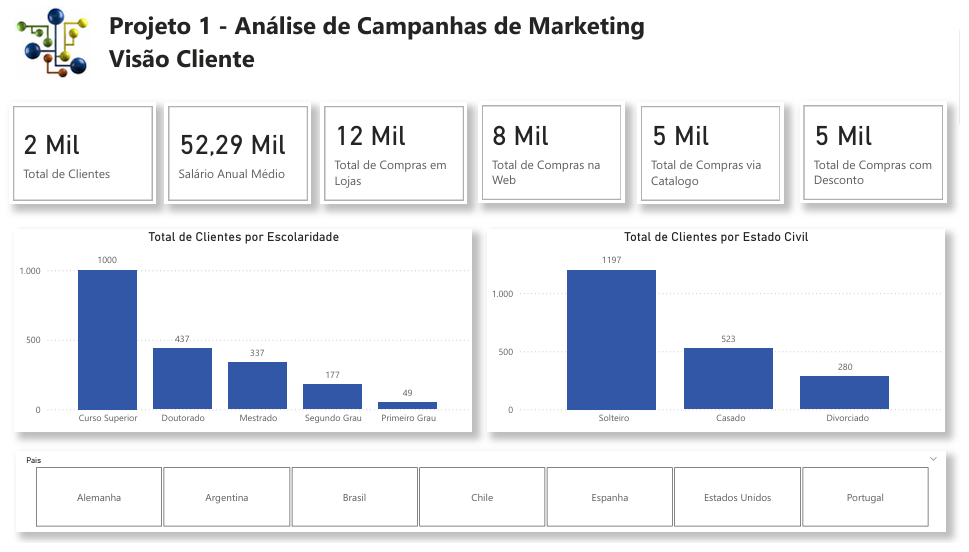

The page's visual inventory and layout, read from the dashboard file:
{"tool":"powerbi","page":{"name":"visao_cliente","canvas":[1280,720],"ordinal":0},"visuals":[{"type":"cardVisual","fields":{"Data":["CountNonNull(dados_marketing.ID)"]},"box":[13.3,133.3,195,135],"z":0},{"type":"cardVisual","fields":{"Data":["Avg(dados_marketing.Salario Anual)"]},"box":[220,133.3,195,135],"z":1000},{"type":"cardVisual","fields":{"Data":["Sum(dados_marketing.Numero de Compras na Loja)"]},"box":[428.3,133.3,195,135],"z":2000},{"type":"cardVisual","fields":{"Data":["Sum(dados_marketing.Numero de Compras na Web)"]},"box":[638.3,131.7,195,135],"z":3000},{"type":"cardVisual","fields":{"Data":["Sum(dados_marketing.Numero de Compras com Desconto)"]},"box":[1066.7,131.7,195,135],"z":4000},{"type":"cardVisual","fields":{"Data":["Sum(dados_marketing.Numero de Compras via Catalogo)"]},"box":[850,133.3,195,135],"z":5000},{"type":"image","box":[0,0,140,108.3],"z":6000},{"type":"textbox","box":[140,1.7,1003.3,106.7],"z":7000},{"type":"columnChart","title":"Total de Clientes por Escolaridade","fields":{"Category":["dados_marketing.Escolaridade"],"Y":["CountNonNull(dados_marketing.ID)"]},"box":[19.6,302.4,610,270],"z":8000},{"type":"columnChart","title":"Total de Clientes por Estado Civil","fields":{"Y":["CountNonNull(dados_marketing.ID)"],"Category":["dados_marketing.Estado Civil"]},"box":[649.6,302.4,610,270],"z":9000},{"type":"slicer","fields":{"Values":["dados_marketing.Pais"]},"box":[21.7,598.3,1240,106.7],"z":10000}]}

Visuals, with their boxes in screenshot pixels (x1, y1, x2, y2), scaled from the page's 1280x720 canvas onto the 969x552 screenshot:
cardVisual - CountNonNull(dados_marketing.ID): <region>10, 102, 158, 206</region>
cardVisual - Avg(dados_marketing.Salario Anual): <region>167, 102, 314, 206</region>
cardVisual - Sum(dados_marketing.Numero de Compras na Loja): <region>324, 102, 472, 206</region>
cardVisual - Sum(dados_marketing.Numero de Compras na Web): <region>483, 101, 631, 204</region>
cardVisual - Sum(dados_marketing.Numero de Compras com Desconto): <region>808, 101, 955, 204</region>
cardVisual - Sum(dados_marketing.Numero de Compras via Catalogo): <region>643, 102, 791, 206</region>
image: <region>0, 0, 106, 83</region>
textbox: <region>106, 1, 866, 83</region>
"Total de Clientes por Escolaridade" columnChart: <region>15, 232, 477, 439</region>
"Total de Clientes por Estado Civil" columnChart: <region>492, 232, 954, 439</region>
slicer - dados_marketing.Pais: <region>16, 459, 955, 540</region>
